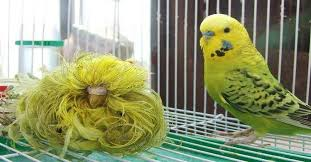budgie: (194, 12, 311, 145)
